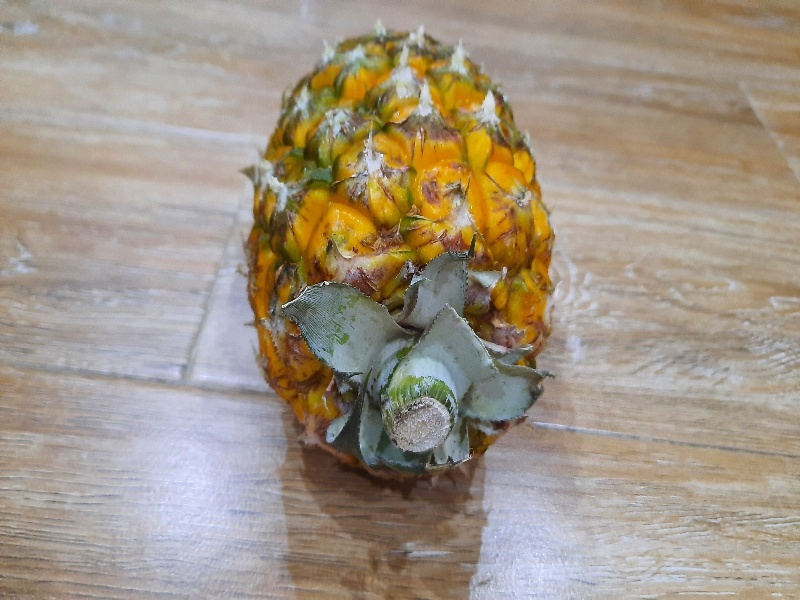fruit: (234, 22, 562, 497)
